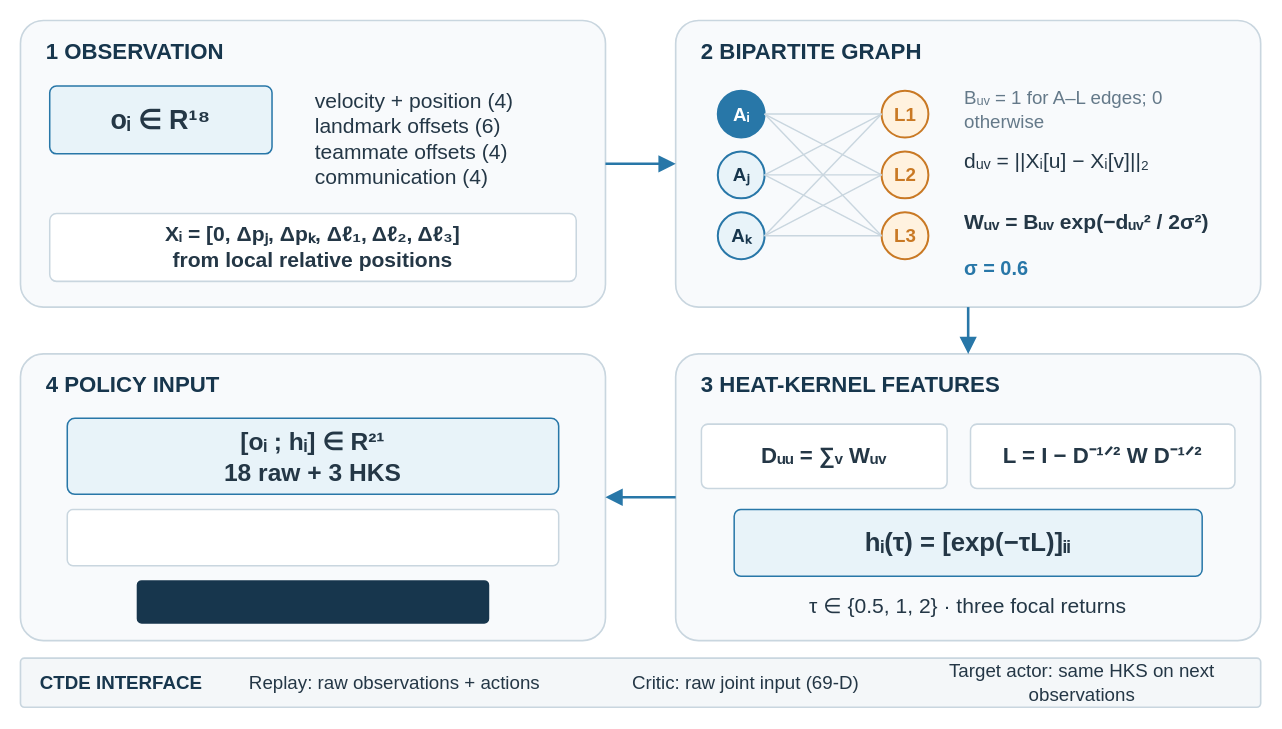
Some shapes in this 1282 by 729 pixel diagram are drawn without their labels. The shapes that lost their labels are listed below. From the top down, each one's centre as x and y in pixels, then its label:
At [312,537]: "MADDPG actor πᵢ · two 64-unit ReLU layers".
At [312,601]: "5 movement-action logits".
